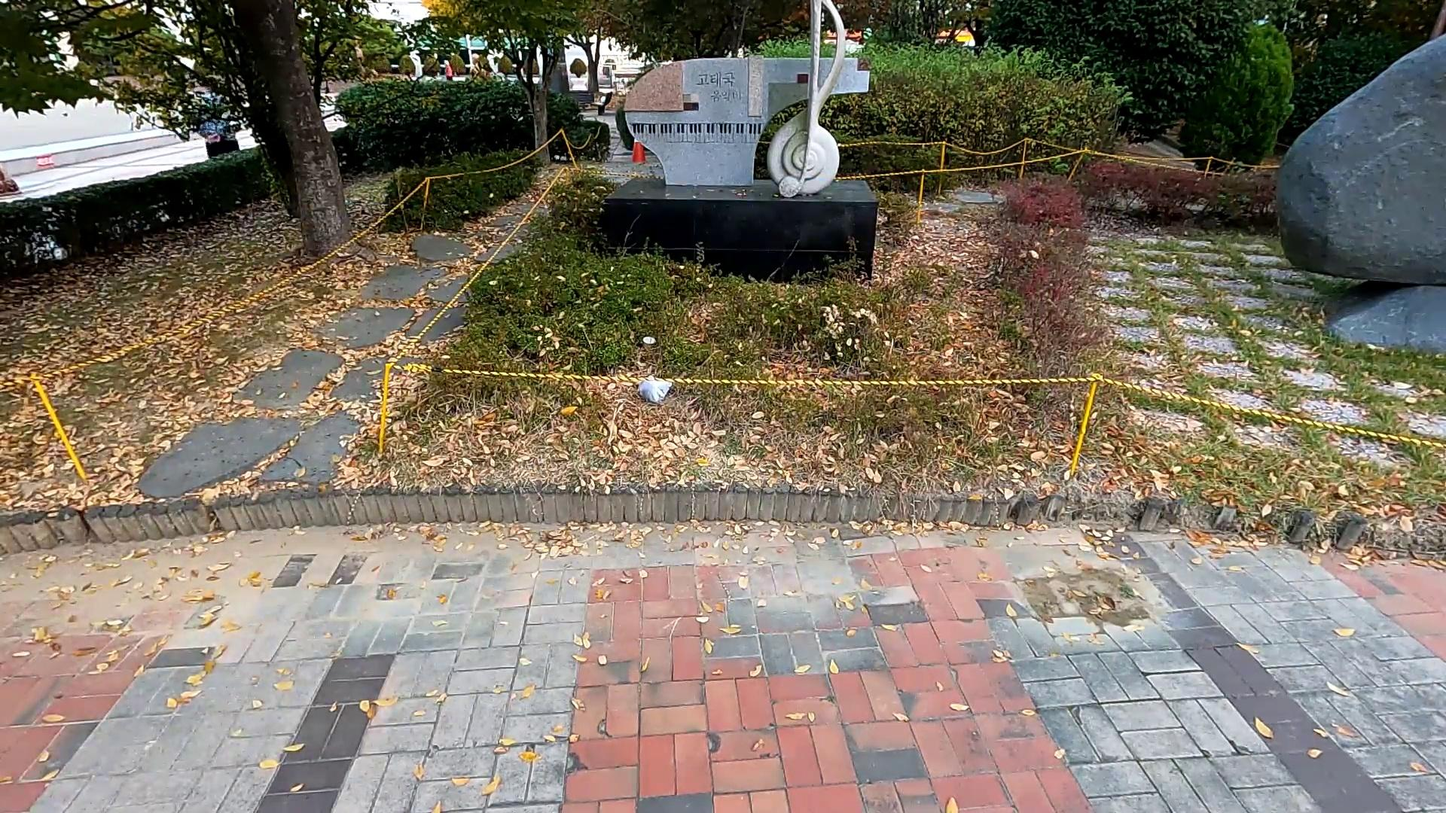trash: (637, 368, 676, 410)
